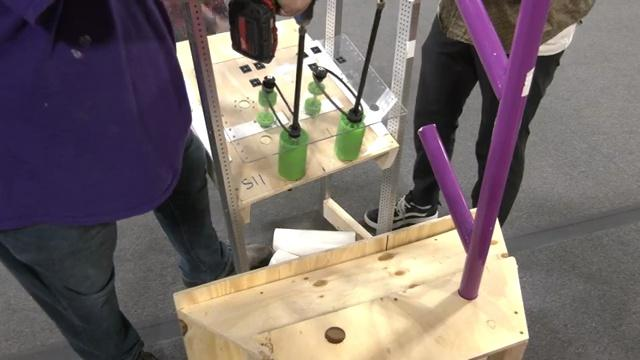CORAL: (273, 228, 355, 255)
